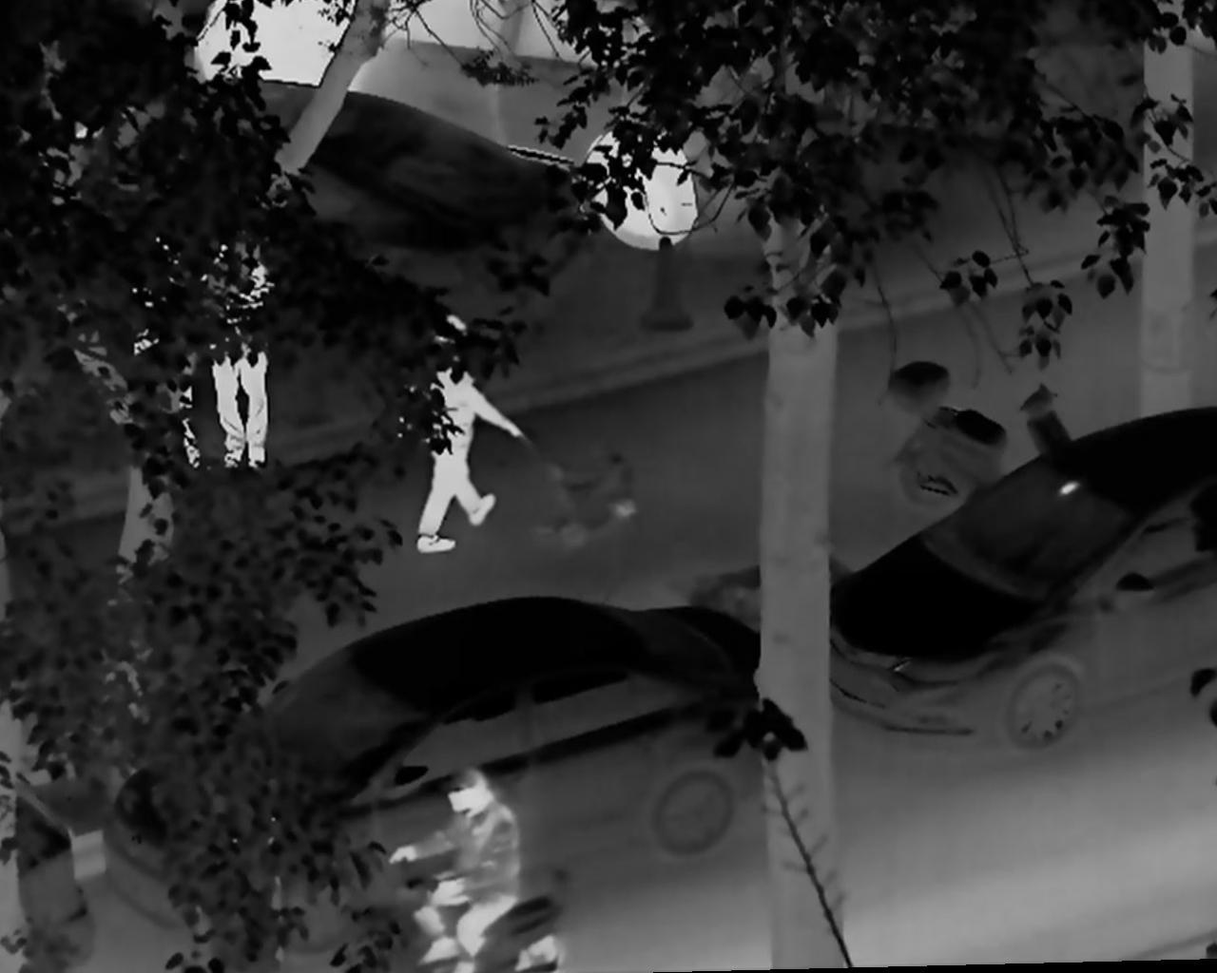person: (388, 311, 519, 563), (387, 762, 520, 973), (196, 210, 282, 478)
